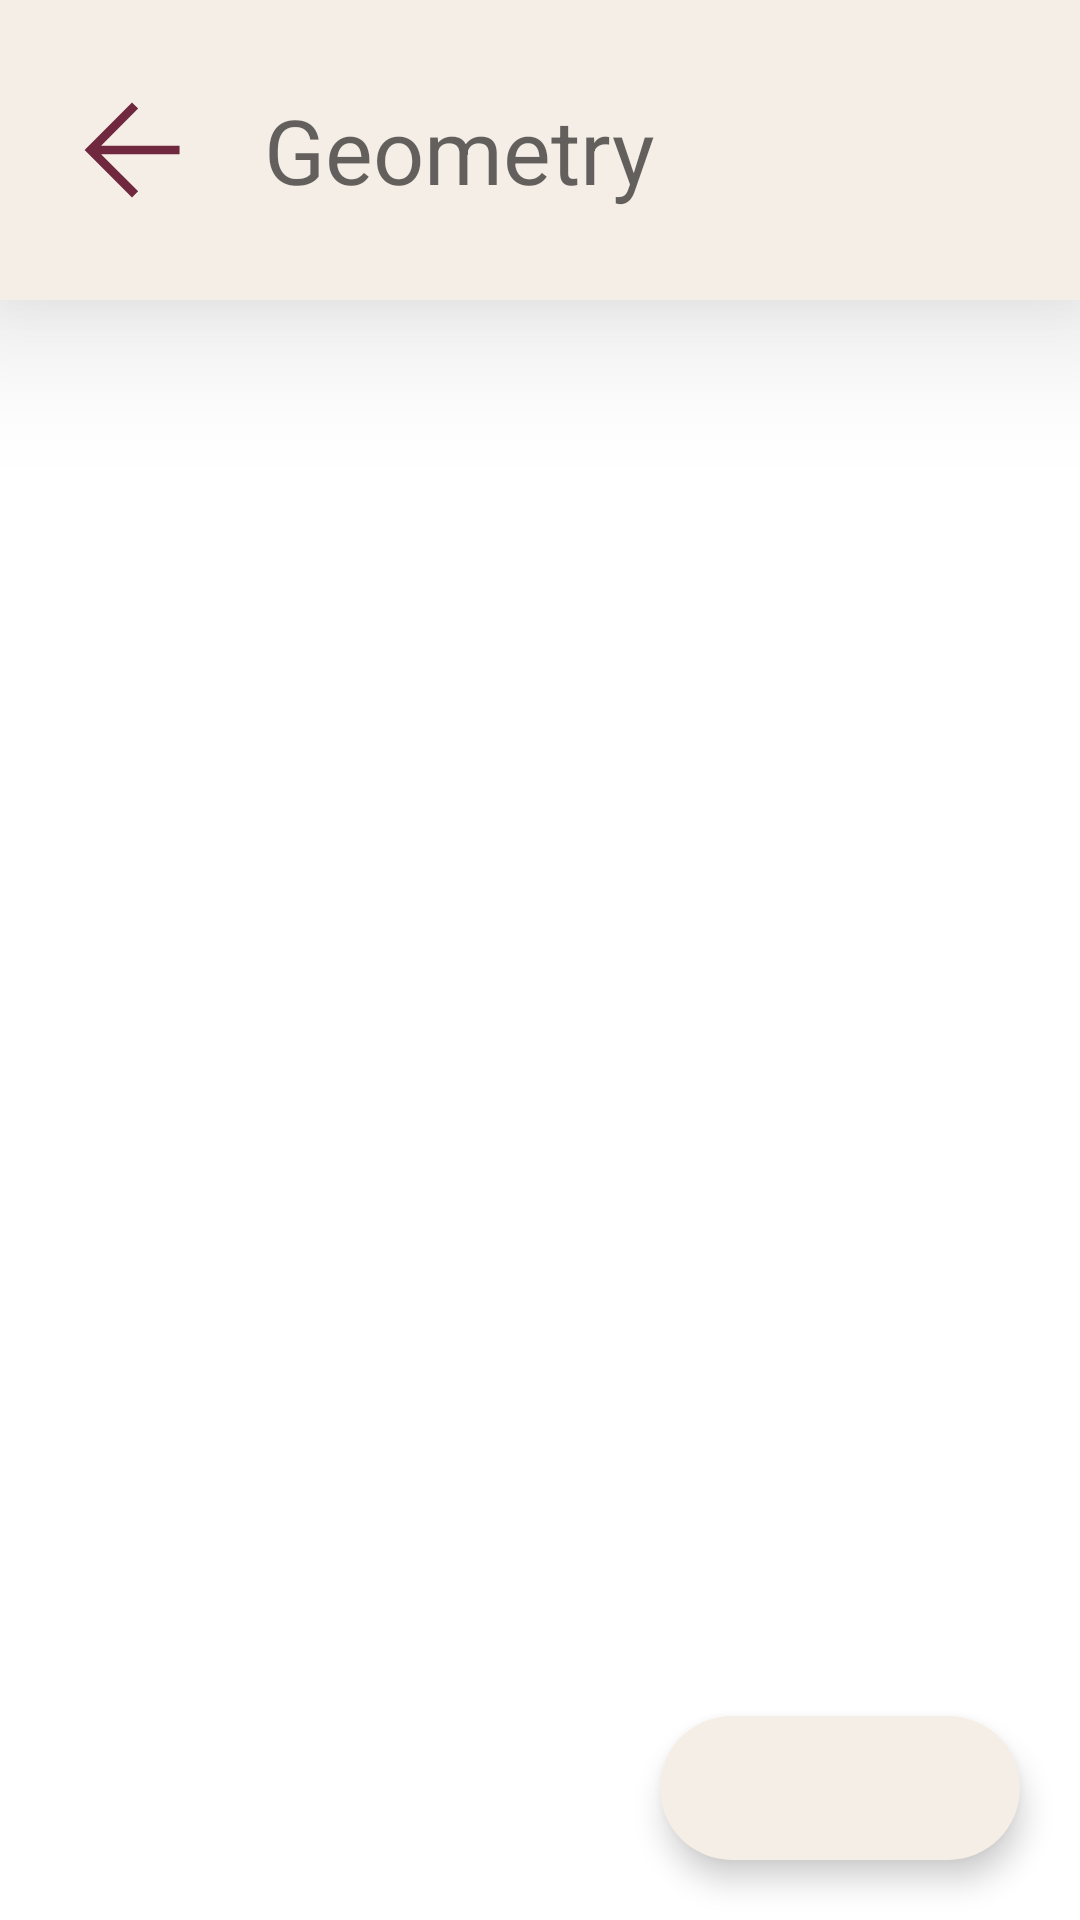

Point at icon controls on the screen. Image size 1080px×1920px, points as point (x, y).
back: point (132, 150)
